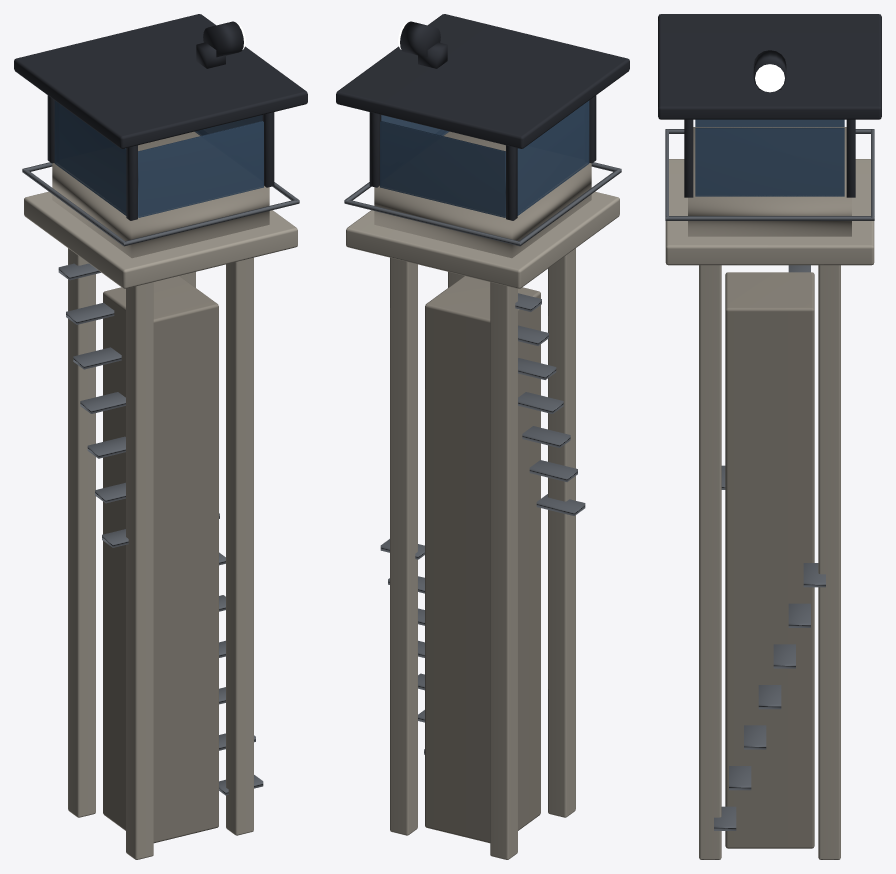
The model's file is prison_tower.glb.
The picture shows the model from 3 angles, left to right: view 1: azimuth 30°, elevation 25°; view 2: azimuth 150°, elevation 25°; view 3: azimuth 270°, elevation 25°; orthographic projection. The views are drawn at different scales.
Visible parts, largest first — view 1: tower; view 2: tower; view 3: tower.
Boxes of the visible parts, x1,y1,x2,y2 form: tower: (14,14,307,859); tower: (336,14,629,859); tower: (658,14,881,859).
Size of the model in its own units: 29.99 by 119 by 29.99.
